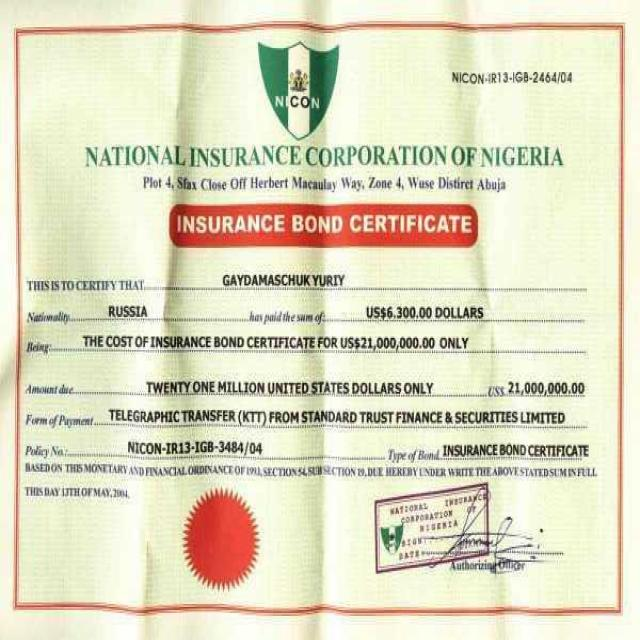signature: (425, 476, 578, 586)
